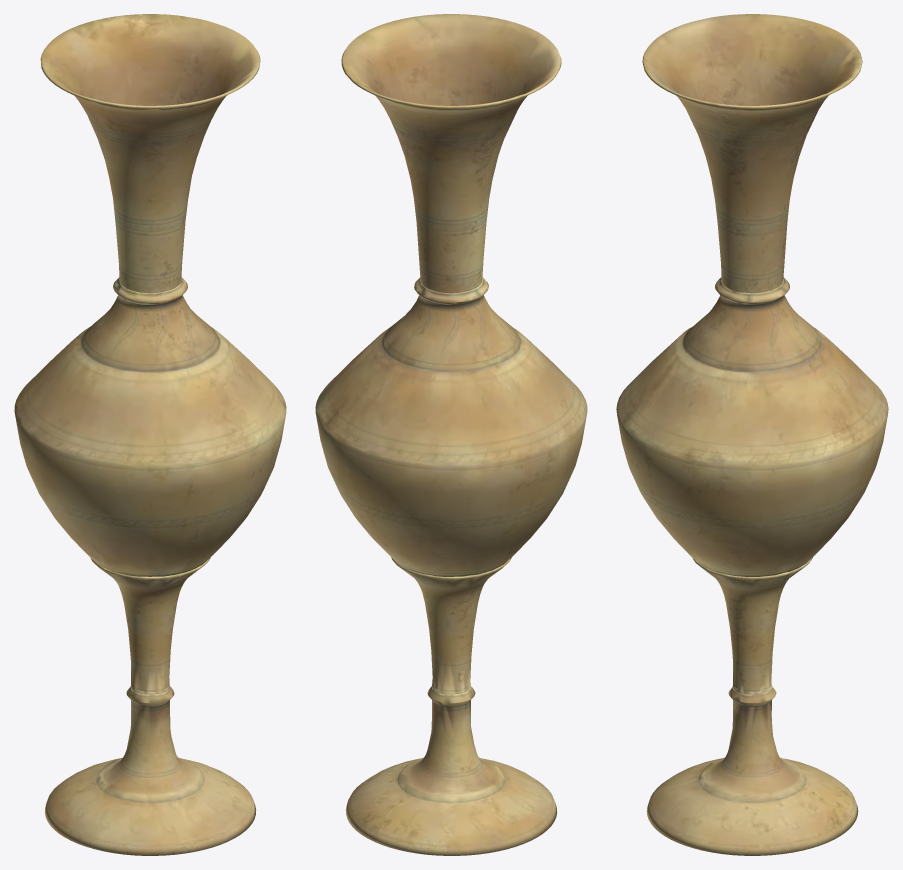
The model's file is brass_vase_01.glb.
3 renders of one model, left to right at view 1: azimuth 30°, elevation 25°; view 2: azimuth 150°, elevation 25°; view 3: azimuth 270°, elevation 25°, orthographic.
Parts seen in each view (by area): view 1: brass_vase_01; view 2: brass_vase_01; view 3: brass_vase_01.
Part boxes in pixels (box(x1,y1,x2,y2)): brass_vase_01: box(14, 14, 286, 855); brass_vase_01: box(315, 14, 587, 855); brass_vase_01: box(616, 14, 888, 855).
Size of the model in its own units: 0.2272 by 0.6925 by 0.2272.
1 material, 1 textured.
